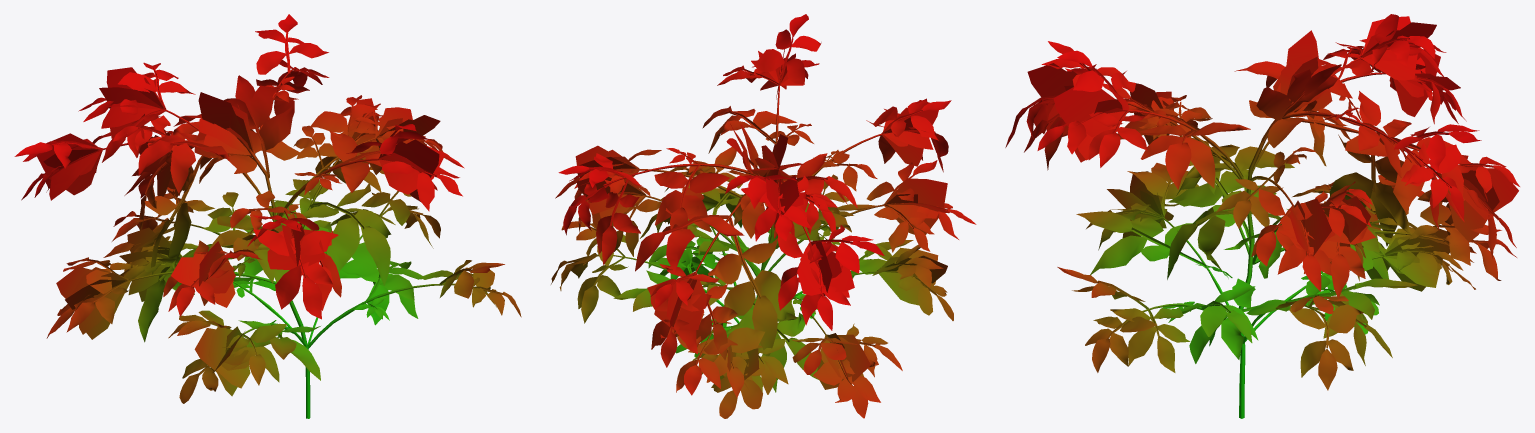
File: Var6_LOD1.fbx
The picture shows the model from 3 angles, left to right: view 1: azimuth 30°, elevation 25°; view 2: azimuth 150°, elevation 25°; view 3: azimuth 270°, elevation 25°; orthographic projection. The views are drawn at different scales.
Visible parts, largest first — view 1: _5nts_Var6_LOD1; view 2: _5nts_Var6_LOD1; view 3: _5nts_Var6_LOD1.
Part boxes in pixels (x1,y1,x2,y2): _5nts_Var6_LOD1: (14,14,521,418); _5nts_Var6_LOD1: (551,14,976,418); _5nts_Var6_LOD1: (1005,14,1519,418).
Size of the model in its own units: 86.45 by 72.87 by 91.
